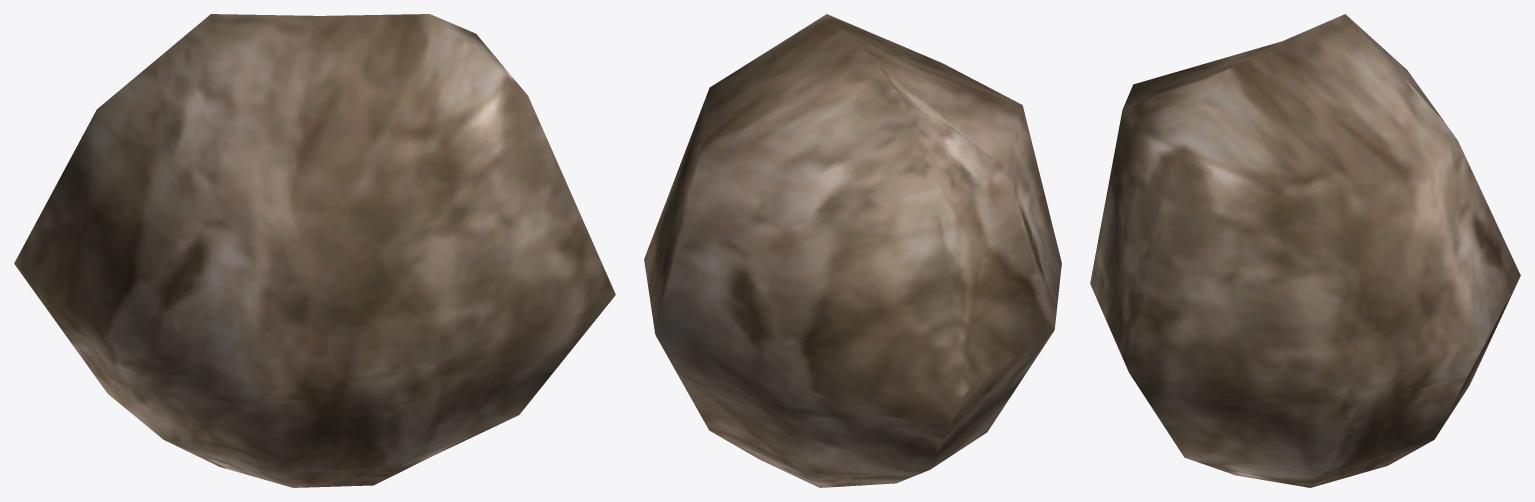
The model's file is OVERHILL_A_01_ROCK84.fbx.
3 renders of one model, left to right at view 1: azimuth 30°, elevation 25°; view 2: azimuth 150°, elevation 25°; view 3: azimuth 270°, elevation 25°, orthographic. The views are drawn at different scales.
Visible parts, largest first — view 1: OVERHILL_A_01_ROCK84; view 2: OVERHILL_A_01_ROCK84; view 3: OVERHILL_A_01_ROCK84.
Boxes of the visible parts, box(x1,y1,x2,y2) form: OVERHILL_A_01_ROCK84: box(14, 14, 615, 487); OVERHILL_A_01_ROCK84: box(644, 14, 1061, 487); OVERHILL_A_01_ROCK84: box(1090, 14, 1520, 487).
Bounding box in the file's own units: 12263 × 11903 × 11587.
Materials: 1 (1 with a texture image).
